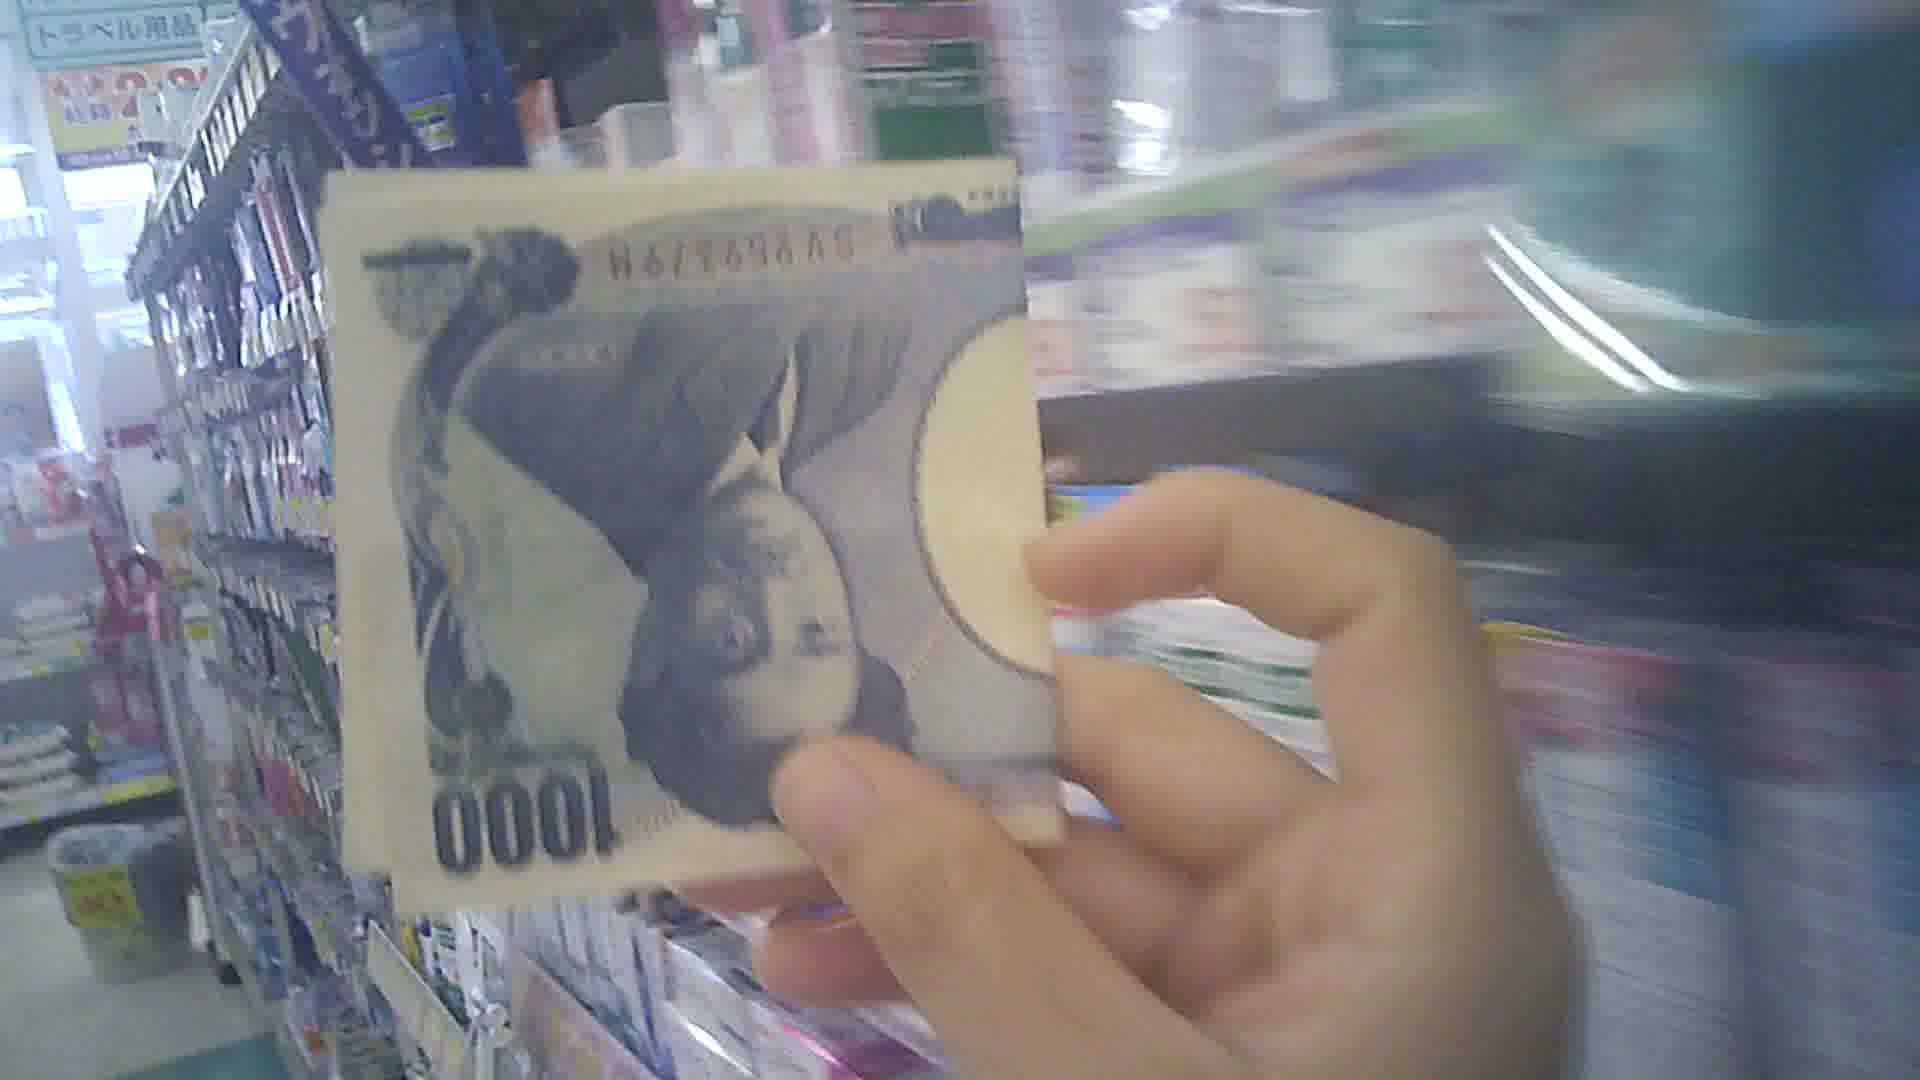1,000 Yen: (316, 157, 1087, 907)
